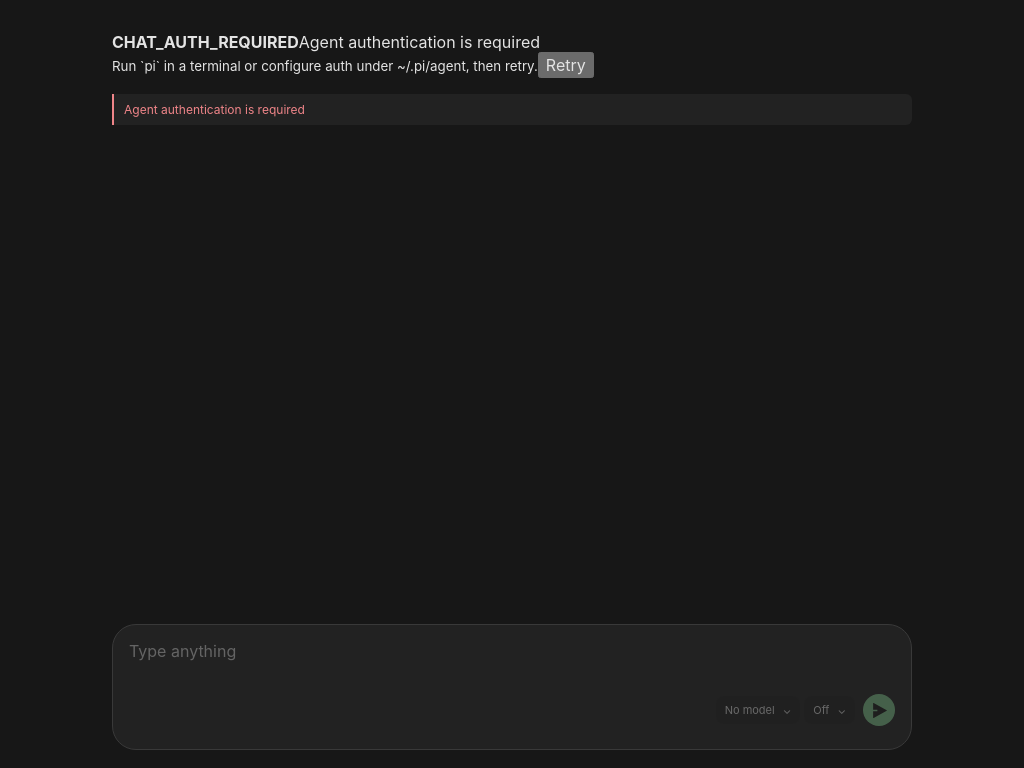
Test case: ChatView › recovers a failed session through Retry
Expected: the text "CHAT_AUTH_REQUIRED" is shown, [112,32,299,52]
Expected: the text box named "Chat message" is disabled, [129,639,895,683]
Click the button "Retry".
click(566, 65)  # box [538,52,594,78]
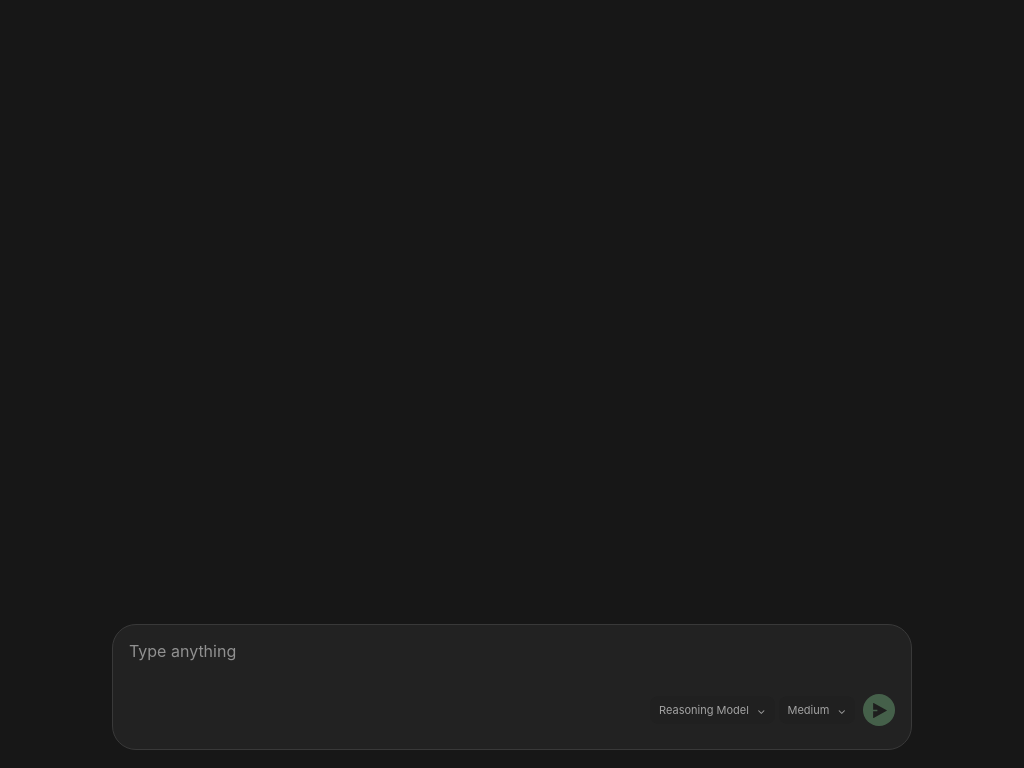
Now the text box named "Chat message" is enabled, box [129,639,895,683]
Now no messages are shown
Now the text "retry" is gone
